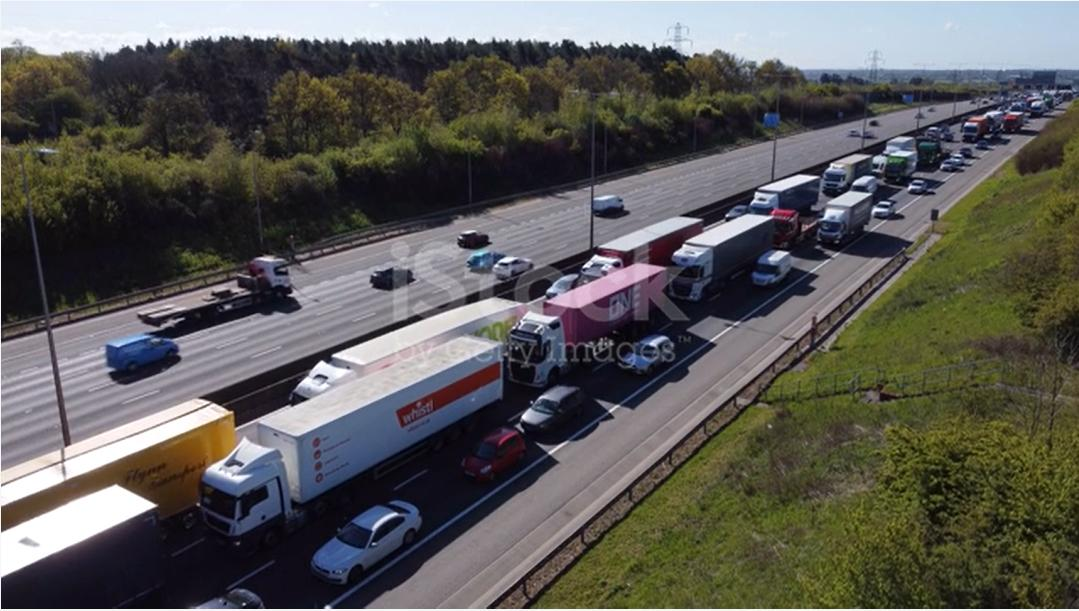car: (289, 495, 460, 595), (84, 328, 184, 382), (465, 415, 538, 486), (607, 333, 698, 382), (522, 374, 590, 431), (358, 258, 434, 296), (484, 250, 548, 284), (575, 189, 642, 220), (752, 245, 793, 291), (874, 193, 909, 231), (442, 225, 489, 253), (908, 175, 929, 203)
truck: (165, 330, 531, 544), (282, 295, 523, 415), (497, 248, 674, 390), (125, 254, 318, 343), (659, 205, 779, 311), (572, 204, 709, 292), (743, 170, 823, 228), (814, 185, 872, 249)
